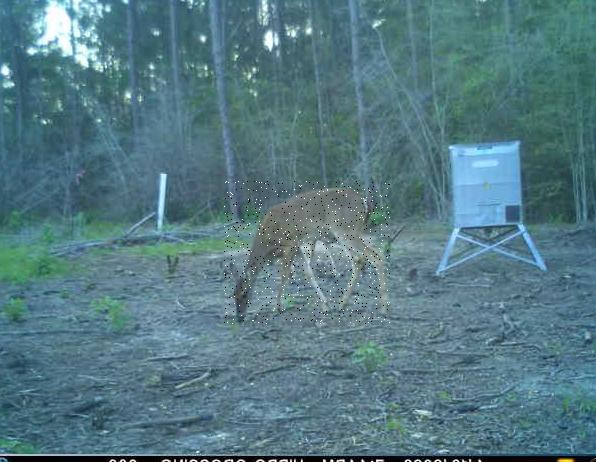Deer: (224, 182, 390, 325)
